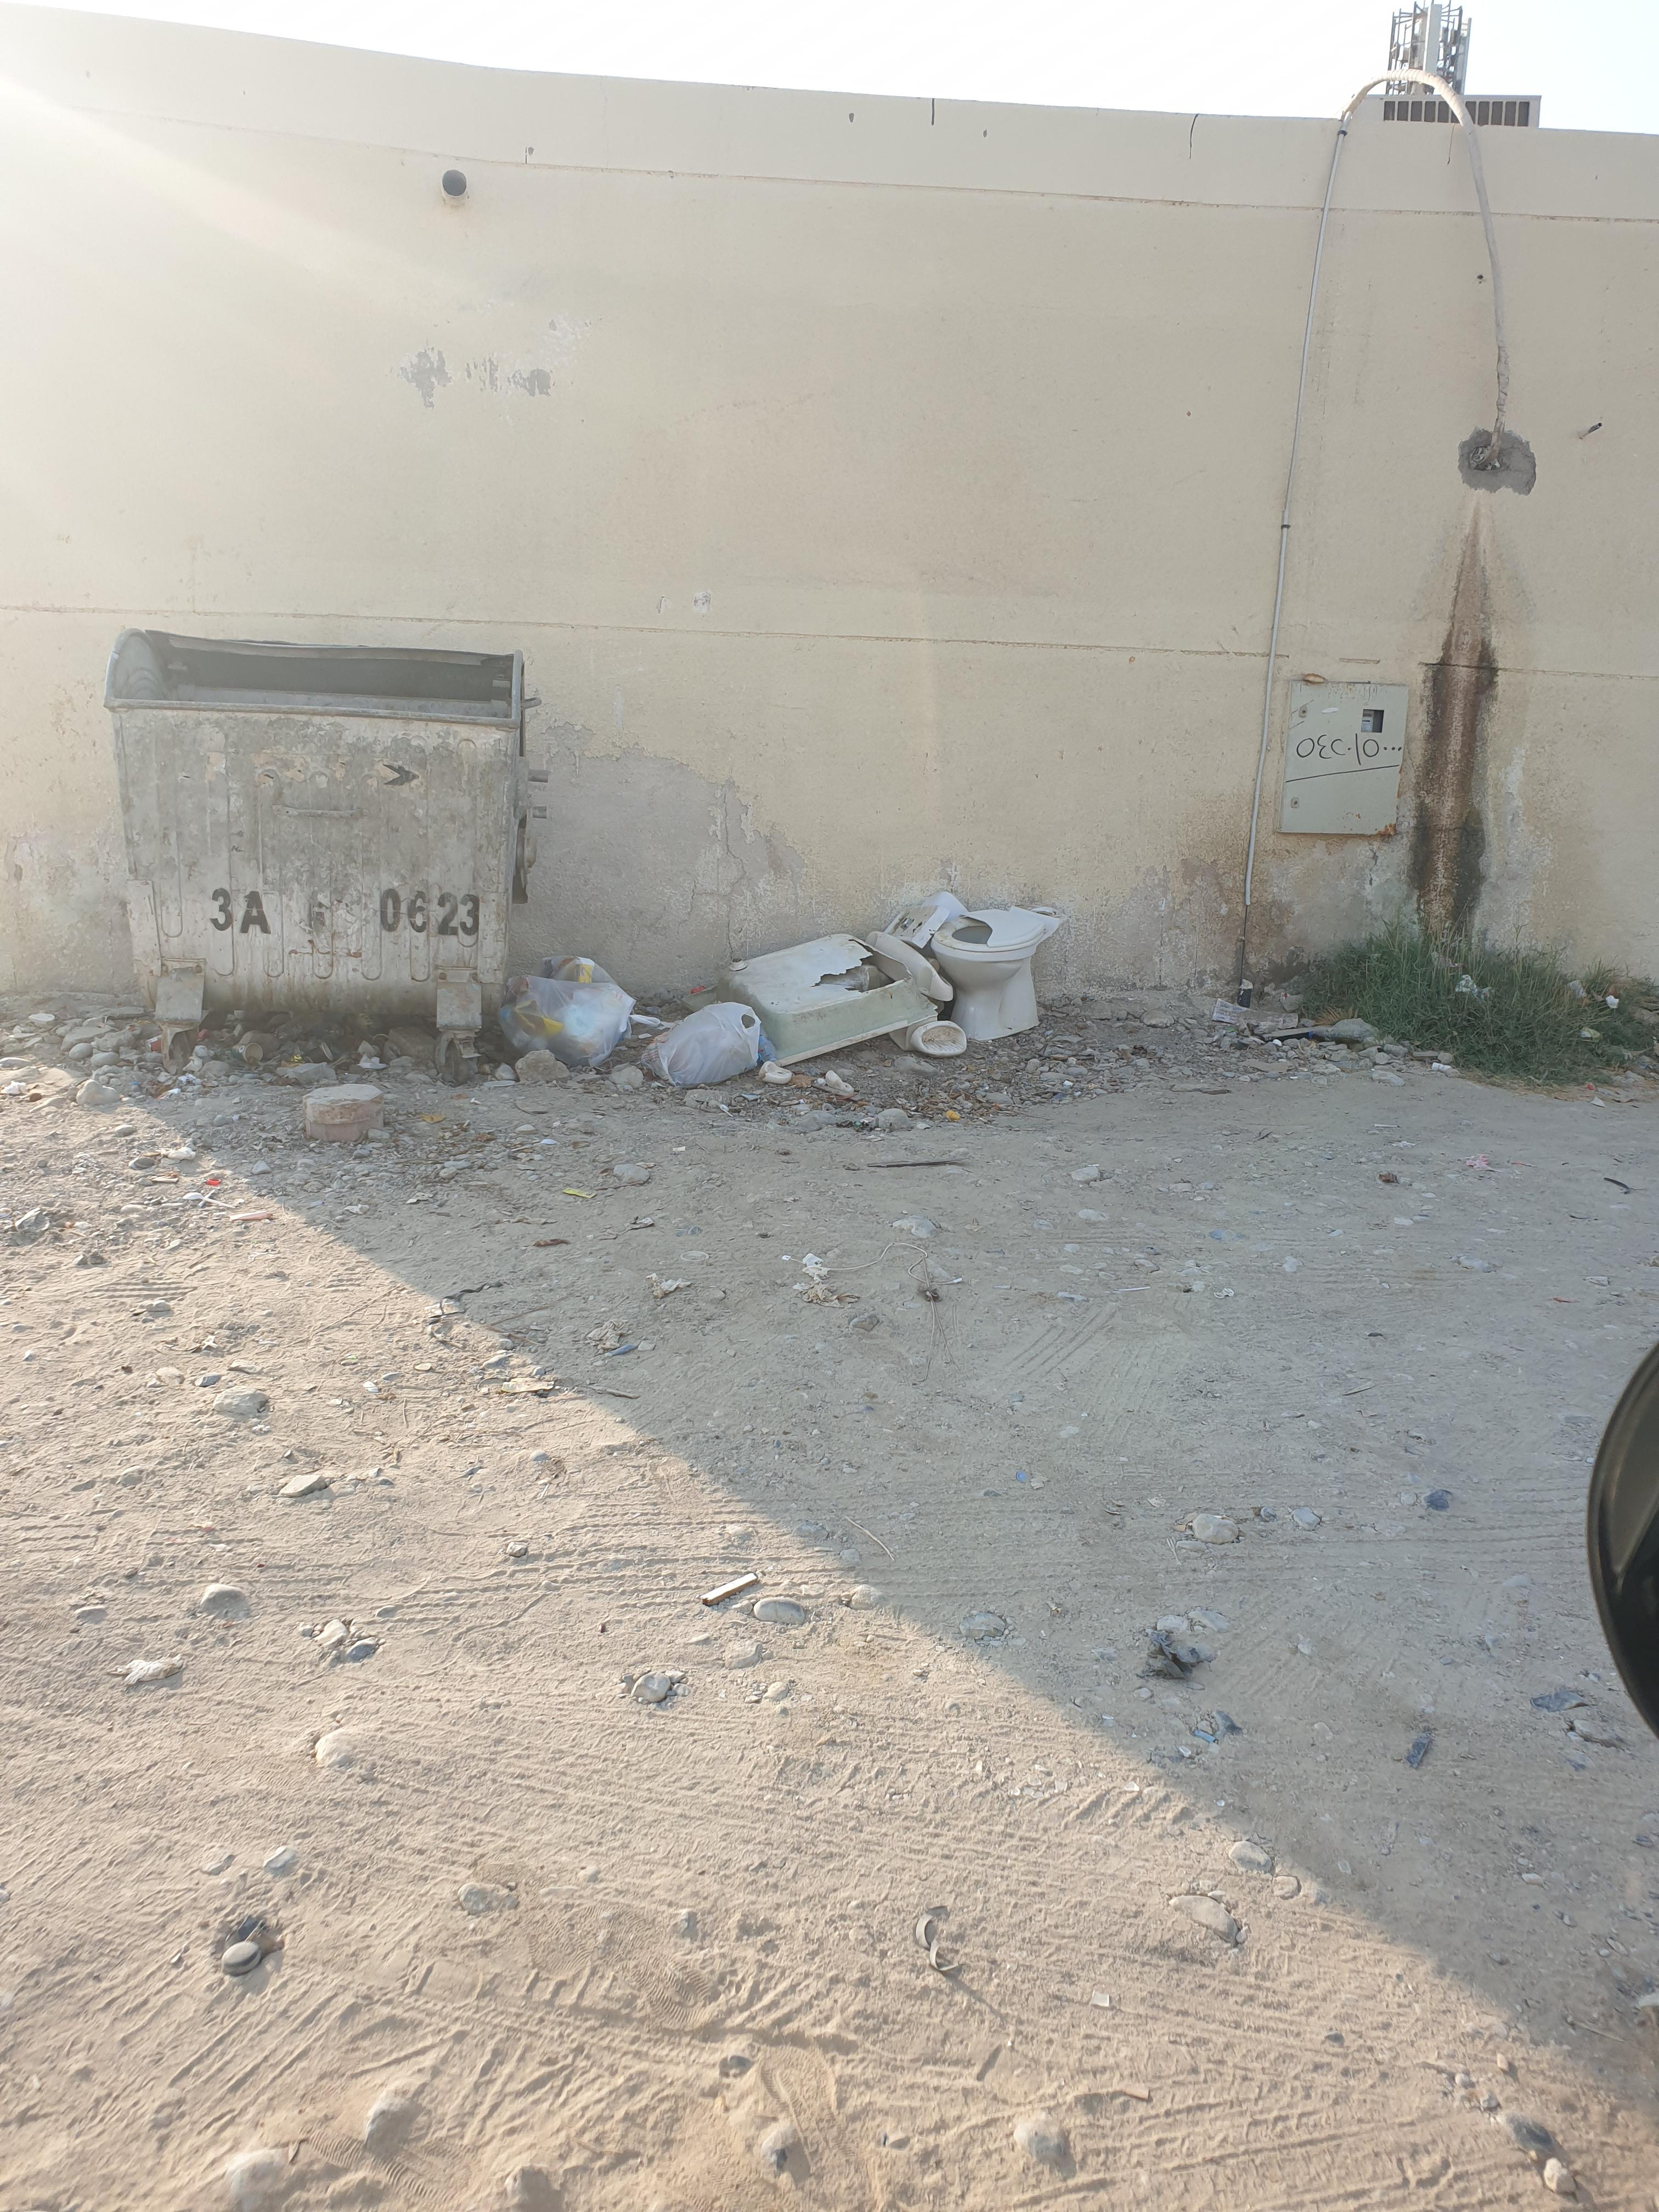uncollected_waste: (647, 798, 1227, 1127)
